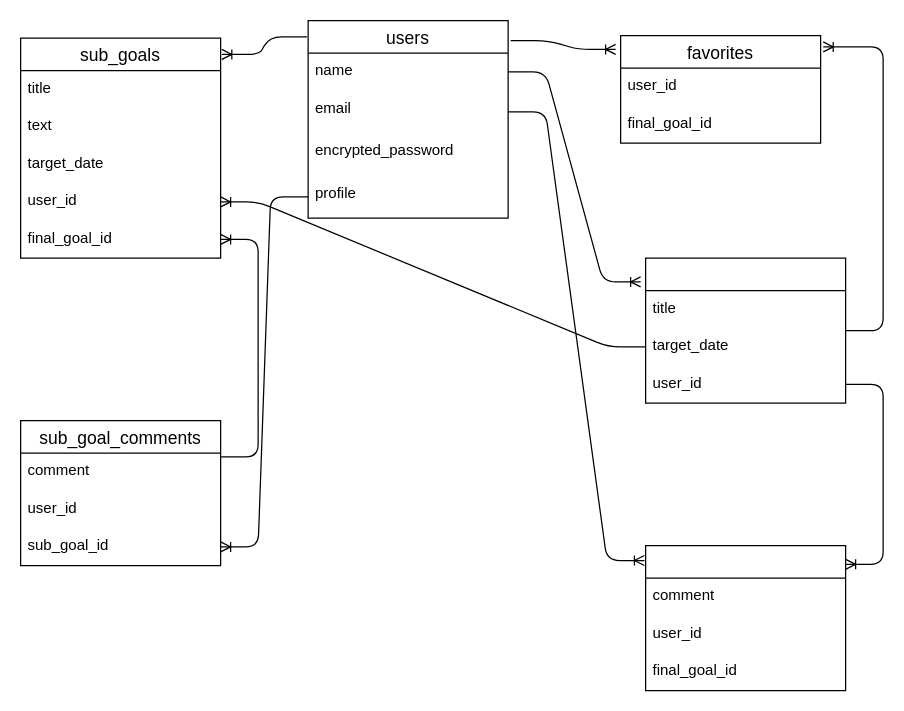
This 904x711 diagram has some shape labels left out. Each missing label, with the box of its shape:
final_goal_comments: (644, 544, 846, 691)
final_goals: (644, 257, 846, 403)
